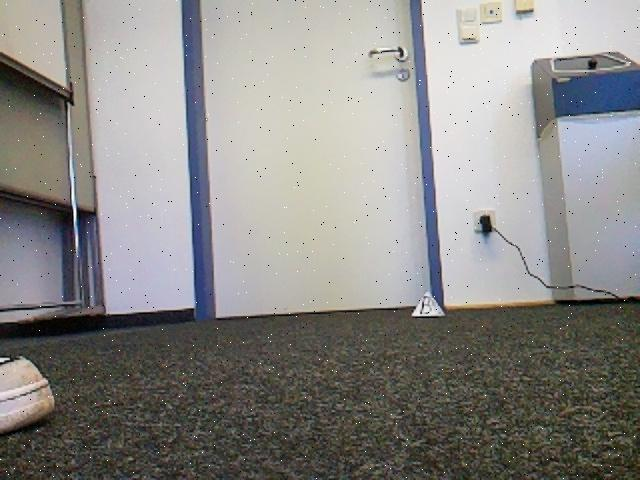B: (412, 291, 445, 317)
